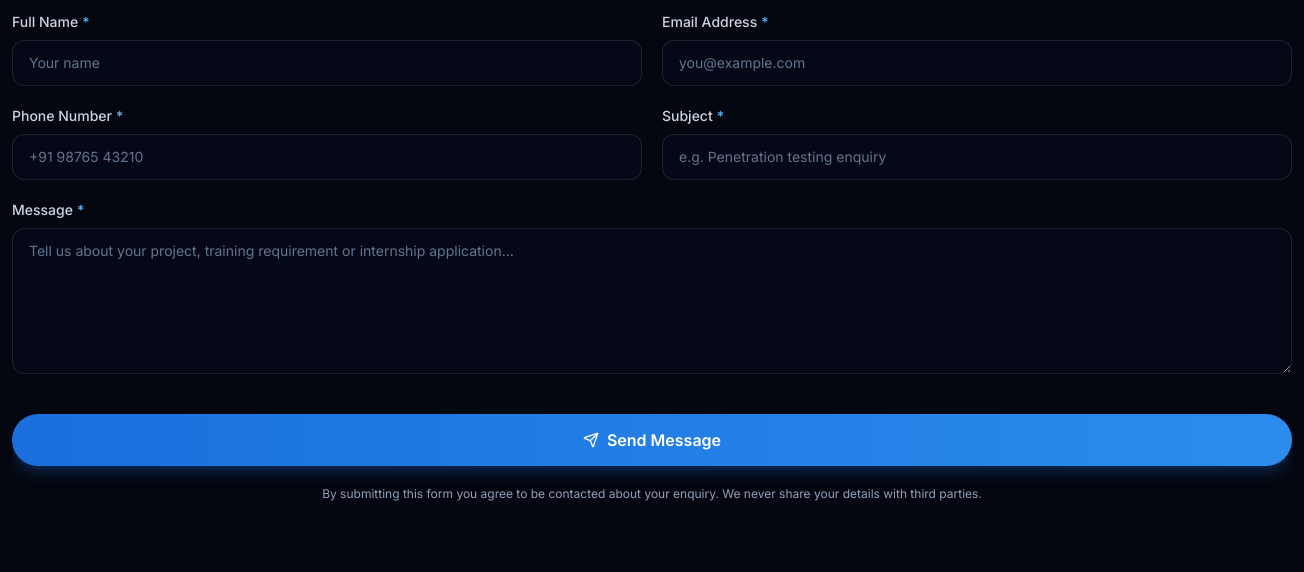
Scenario: ContactForm › handles a network error without crashing
Type "Manikandan K" into the field labelled "Full Name*".
click(327, 63); type("Manikandan K")  # box [12,40,642,86]
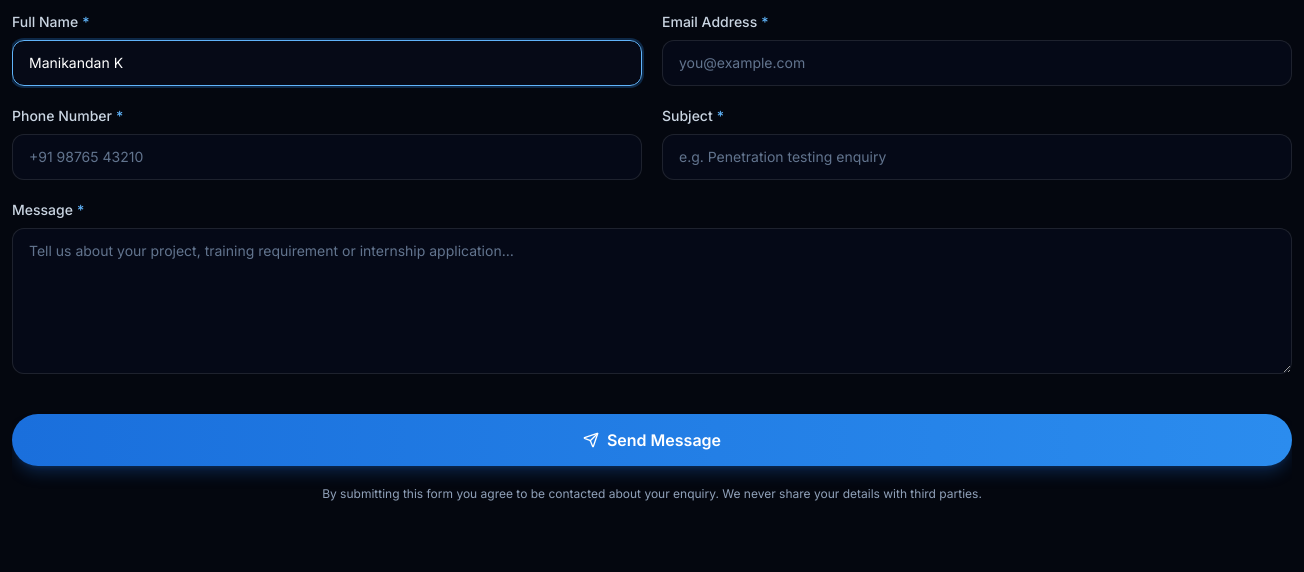
Type "someone@example.com" into the field labelled "Email Address*".
click(977, 63); type("someone@example.com")  # box [662,40,1292,86]
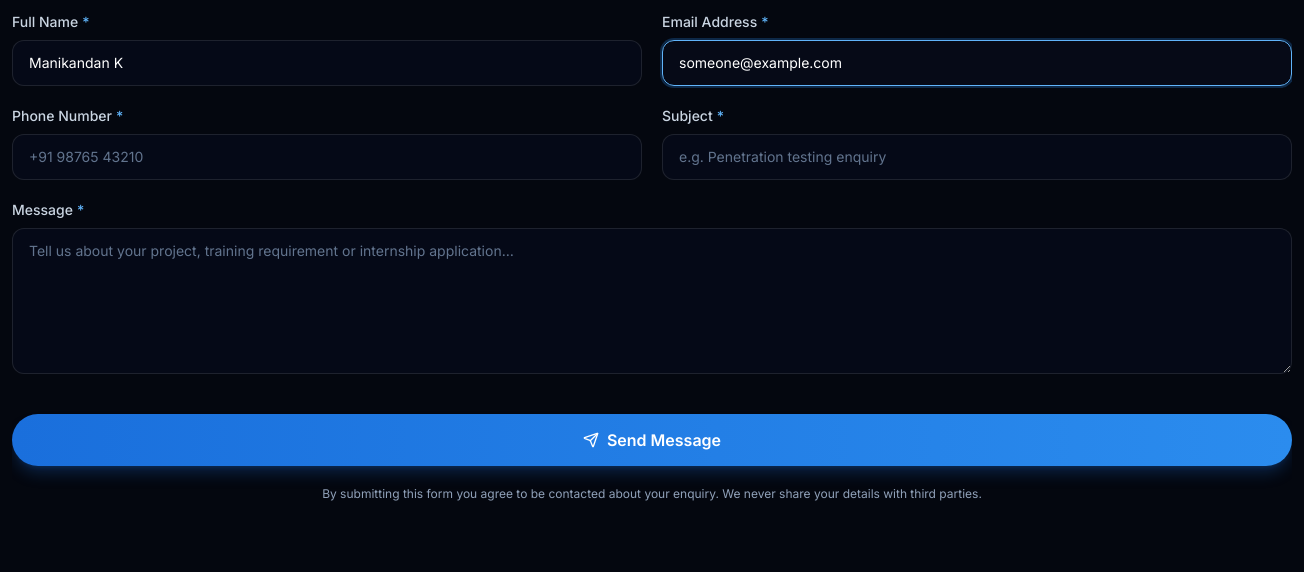
Type "+91 79047 67261" into the field labelled "Phone Number*".
click(327, 157); type("+91 79047 67261")  # box [12,134,642,180]
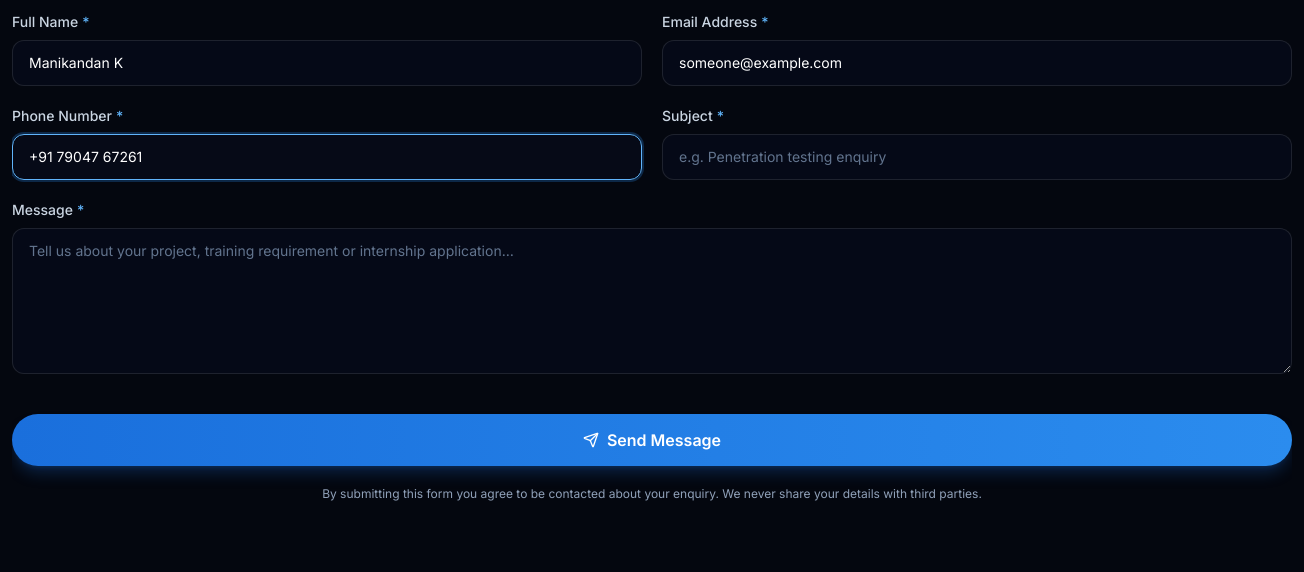
Type "Penetration testing enquiry" into the field labelled "Subject*".
click(977, 157); type("Penetration testing enquiry")  # box [662,134,1292,180]
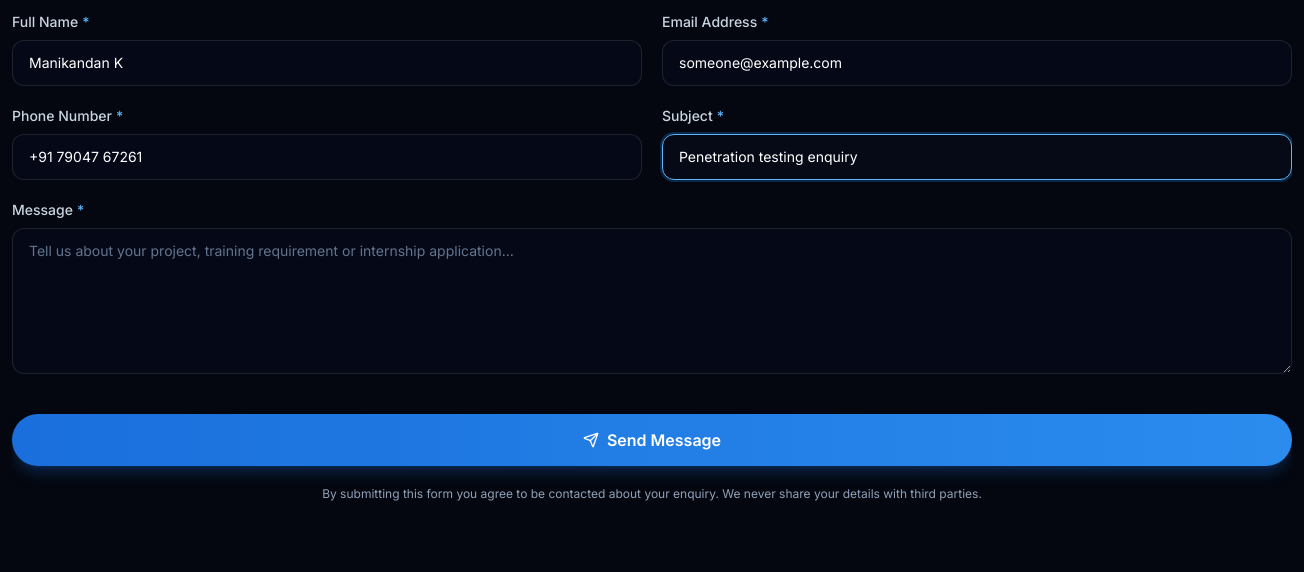
Type "We would like a vulnerability assessment for our web application." into the text box labelled "Message*".
click(652, 301); type("We would like a vulnerability assessment for our web application.")  # box [12,228,1292,374]
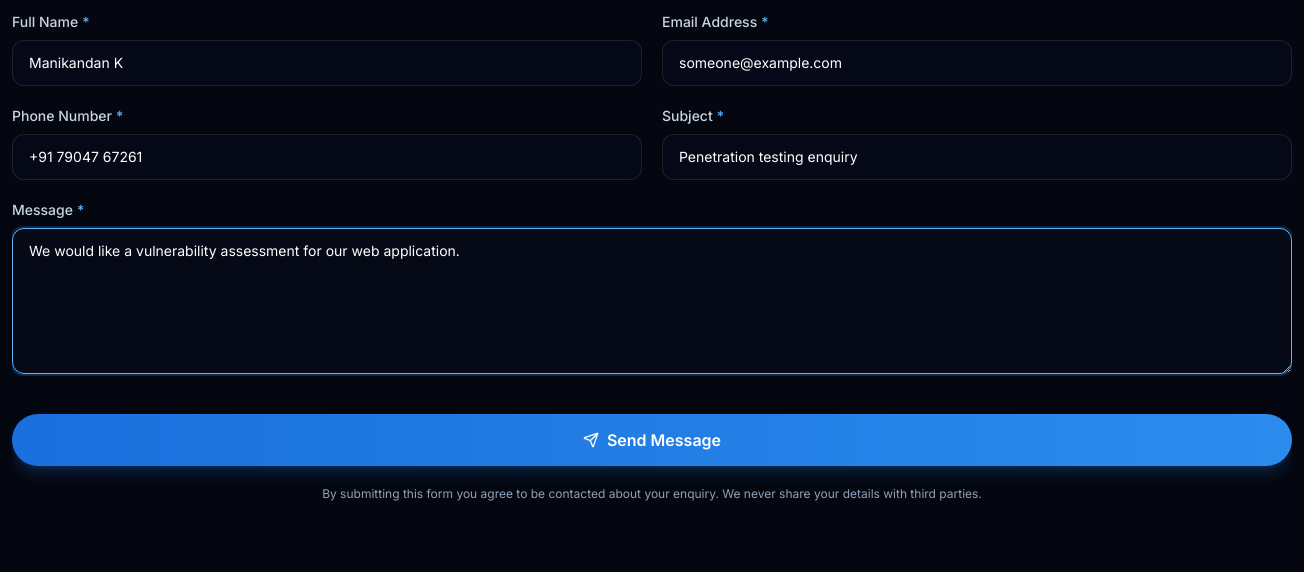
Click the button "Send Message".
click(652, 440)  # box [12,414,1292,466]
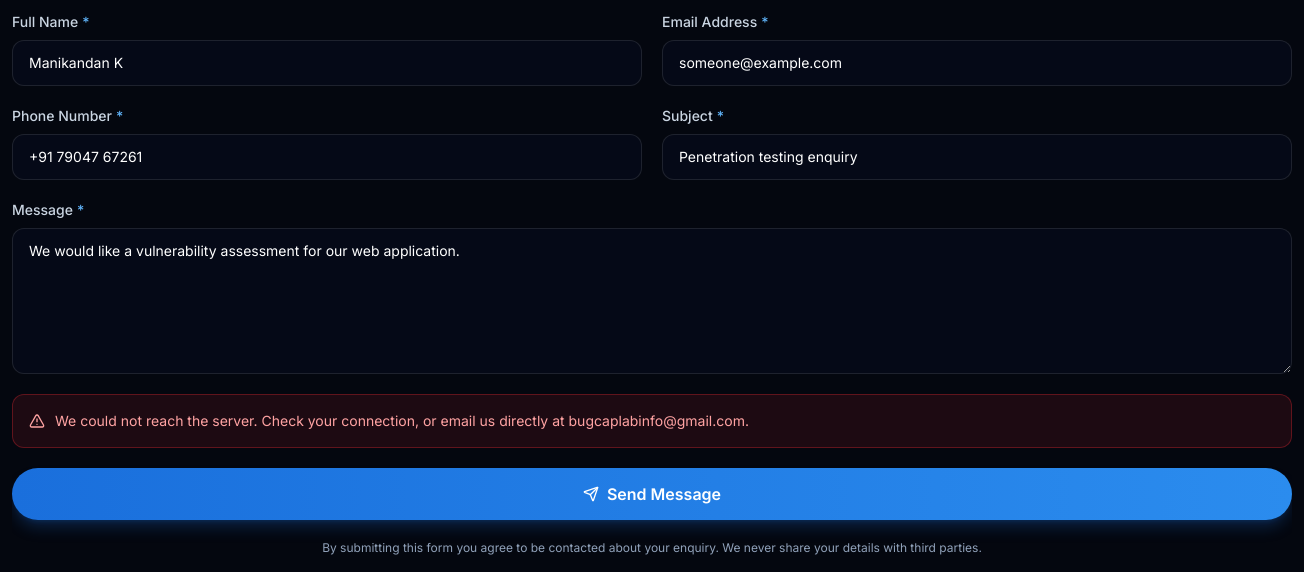
Result: the text "could not reach the server" is shown at [55,412,749,429]
